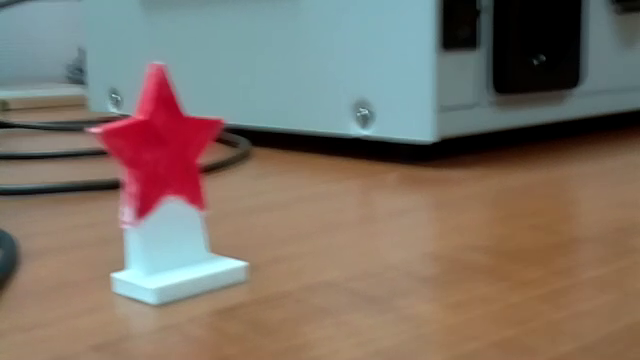star: (72, 57, 277, 313)
